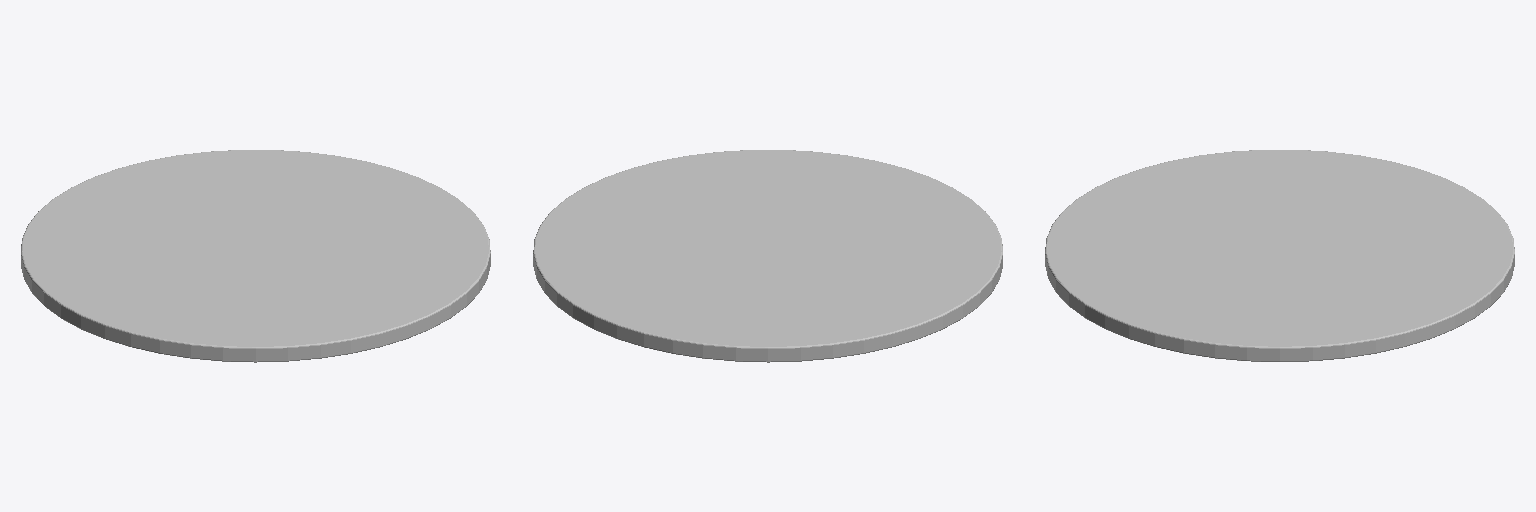
Rendered from quarter.obj.
The picture shows the model from 3 angles: view 1: azimuth 30°, elevation 25°; view 2: azimuth 150°, elevation 25°; view 3: azimuth 270°, elevation 25°; orthographic projection.
Visible parts, largest first — view 1: quarter; view 2: quarter; view 3: quarter.
Boxes of the visible parts, <box> form: quarter: <box>21,150,490,362</box>; quarter: <box>533,150,1002,362</box>; quarter: <box>1045,150,1514,361</box>.
Size of the model in its own units: 1.28 by 0.0461 by 1.28.